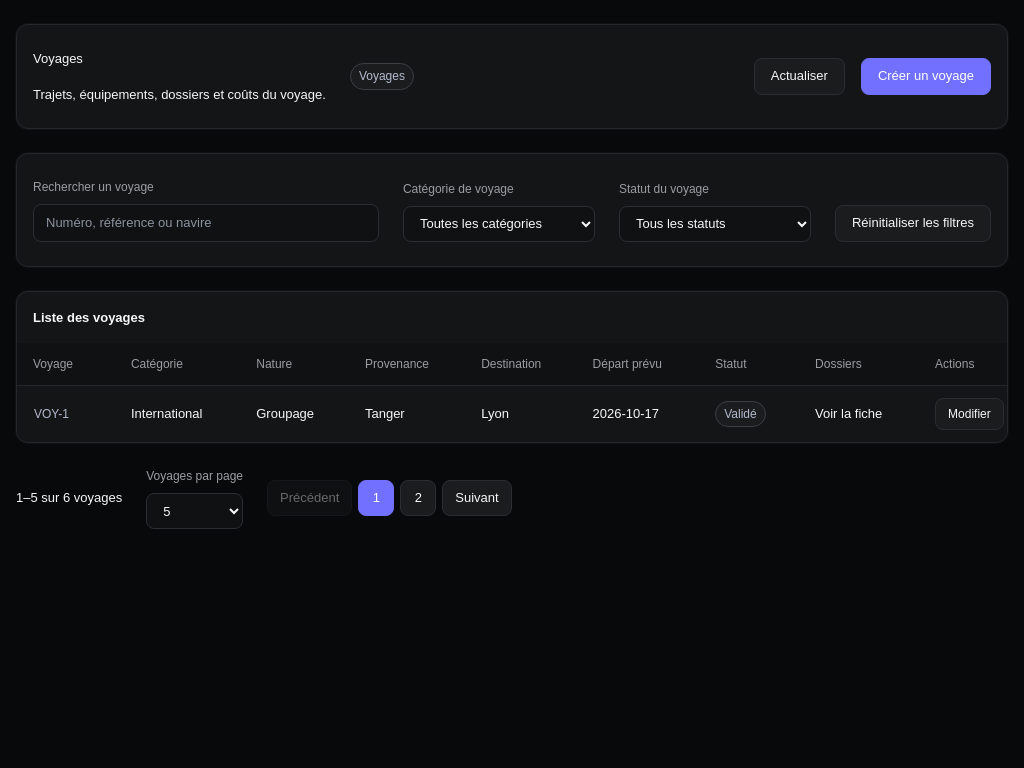
Voyages API presentation › blocks duplicate writes after a lost confirmation
Click the button named "Modifier VOY-1" at [969, 414], box [935, 398, 1004, 430]
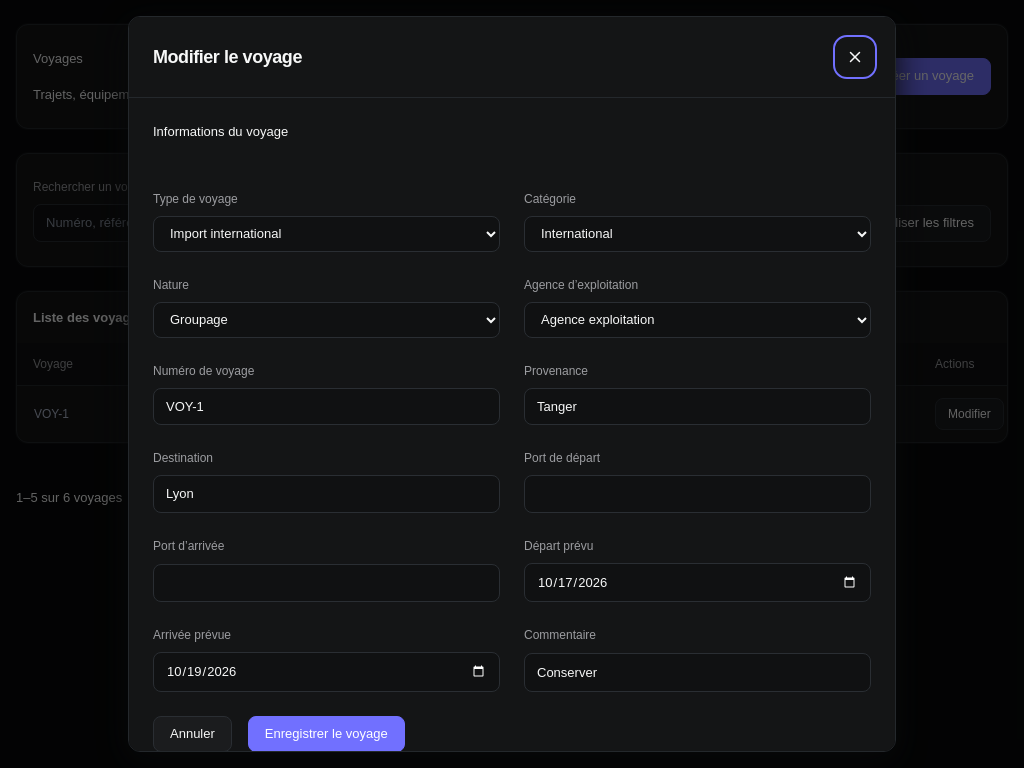
Expected: the field labelled "Commentaire" is shown, [524, 653, 871, 692]
Expected: the button "Enregistrer le voyage" is enabled
Click the button "Enregistrer le voyage" at [326, 734], box [248, 716, 405, 752]
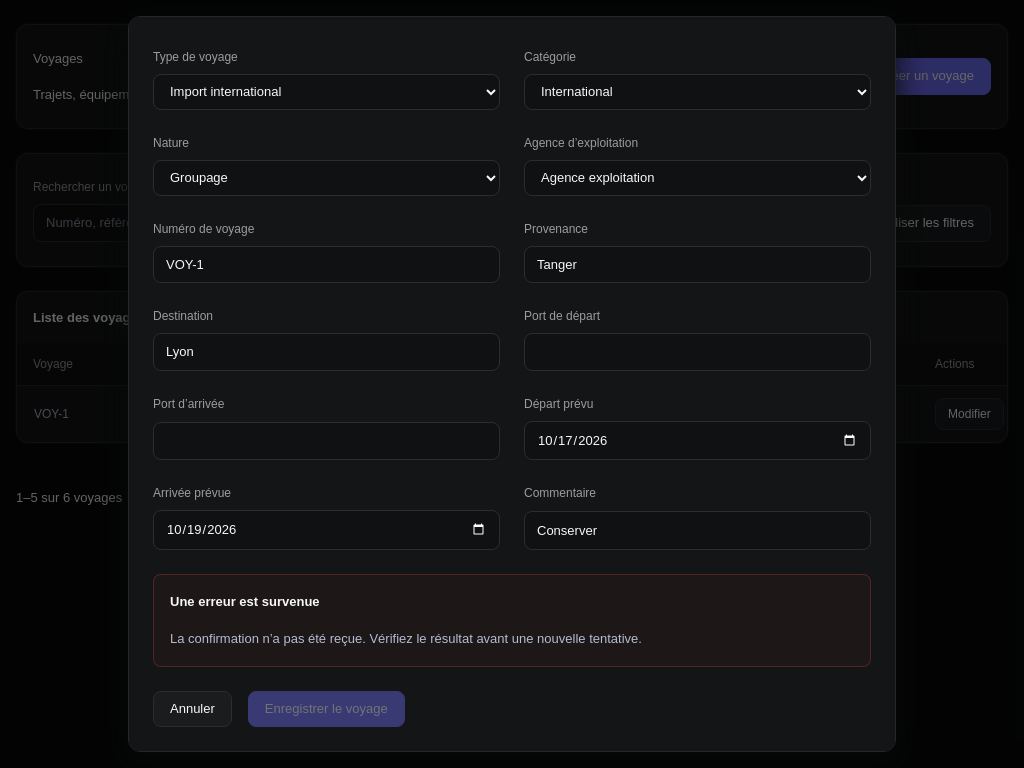
Expected: the button "Enregistrer le voyage" is disabled, [248, 691, 405, 727]
